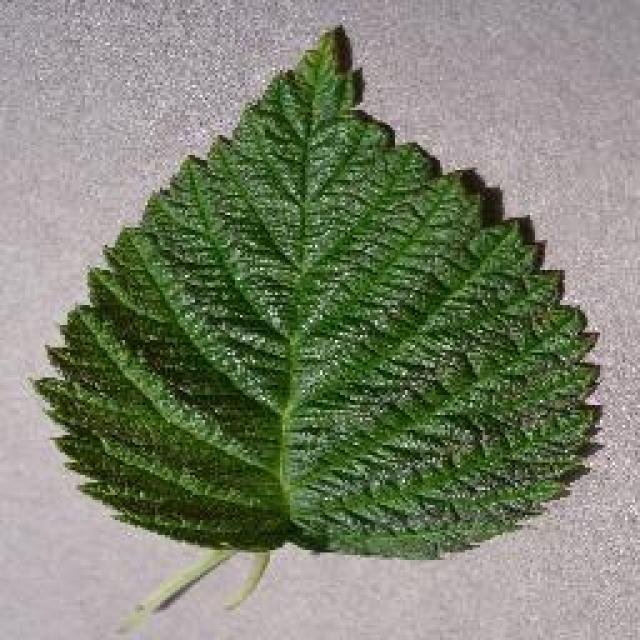Ras_healthy: (79, 113, 597, 553)
